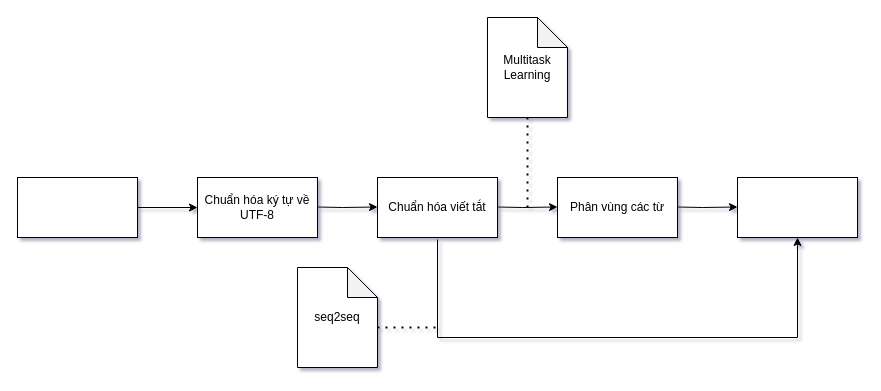
Some shapes in this 881 by 391 pixel diagram are drawn without their labels. Each missing label, with the centre of its shape:
Loại bỏ các kí tự không cần thiết: pixel 797 207
Xóa HTML: pixel 77 207
